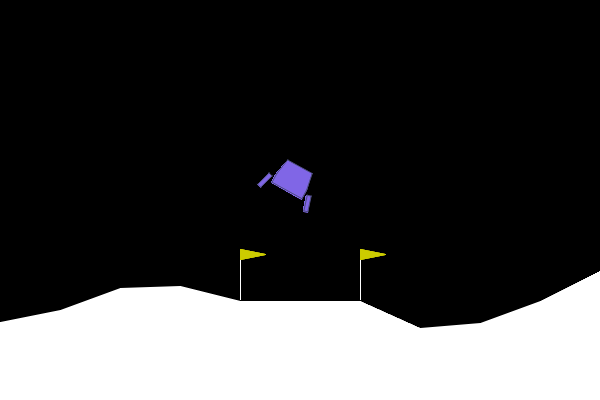lander: (255, 151, 327, 215)
